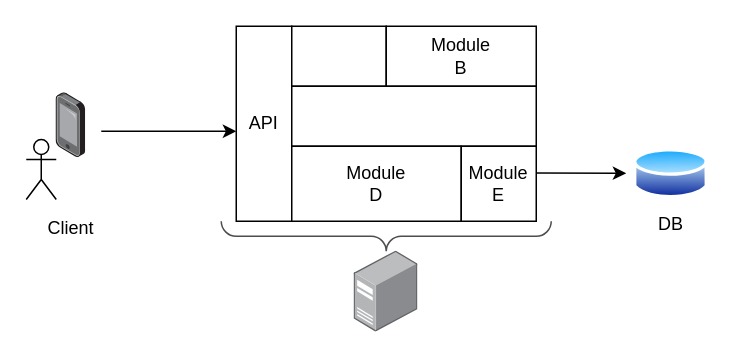
Image size: 743x359. Some labels were removed from this diagram. The shapes that lost their labels are listed below. From the top down, each one's centre as x and y in pixels, then its label:
At pixel 338 55: "Module A".
At pixel 413 115: "Module C".
